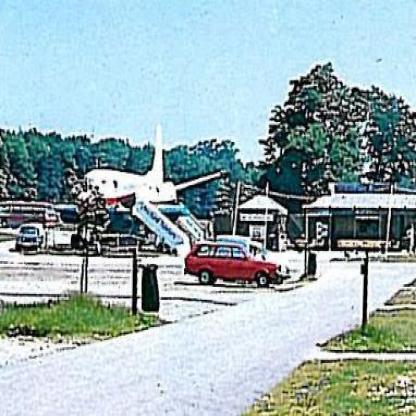CIV_Plane: (58, 124, 227, 254)
